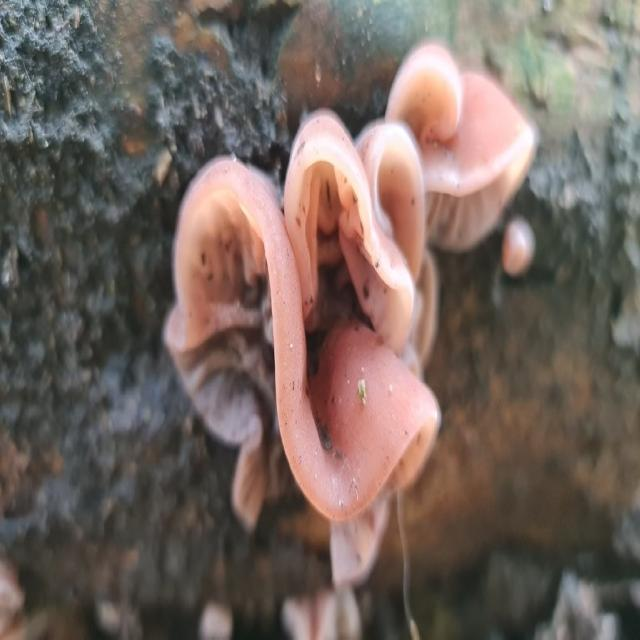Fase Muda: (384, 35, 465, 151)
Matang: (159, 152, 444, 547), (281, 103, 418, 361), (409, 63, 538, 255), (355, 120, 433, 292)
primordia: (499, 220, 535, 280)
